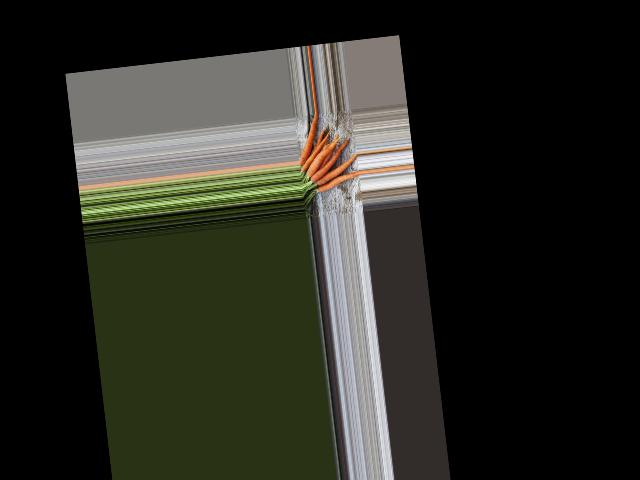carrot: (294, 114, 325, 169)
